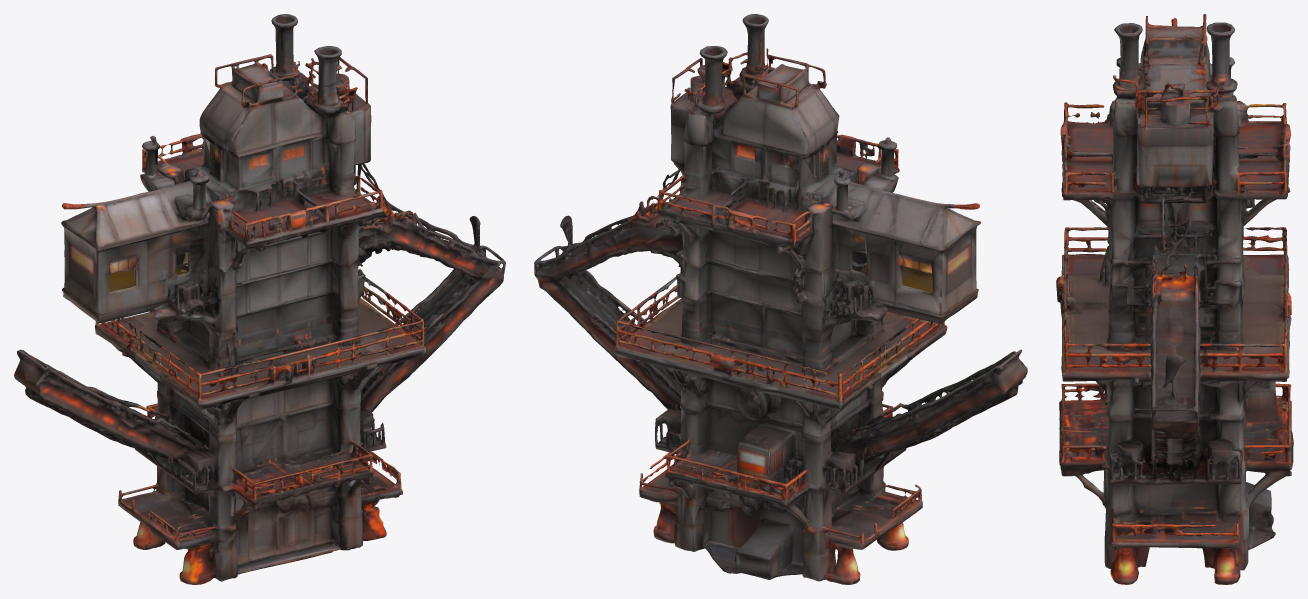
File: blast_furnace.glb
3 views of the same model, side by side, from view 1: azimuth 30°, elevation 25°; view 2: azimuth 150°, elevation 25°; view 3: azimuth 270°, elevation 25° (orthographic). The views are drawn at different scales.
Parts seen in each view (by area): view 1: blast_furnace; view 2: blast_furnace; view 3: blast_furnace.
Boxes of the visible parts, left/top/right/bottom form: blast_furnace: left=14, top=14, right=505, bottom=584; blast_furnace: left=534, top=14, right=1027, bottom=584; blast_furnace: left=1056, top=14, right=1293, bottom=584.
Bounding box in the file's own units: 1.99 × 1.99 × 0.813.
1 material, 1 textured.
